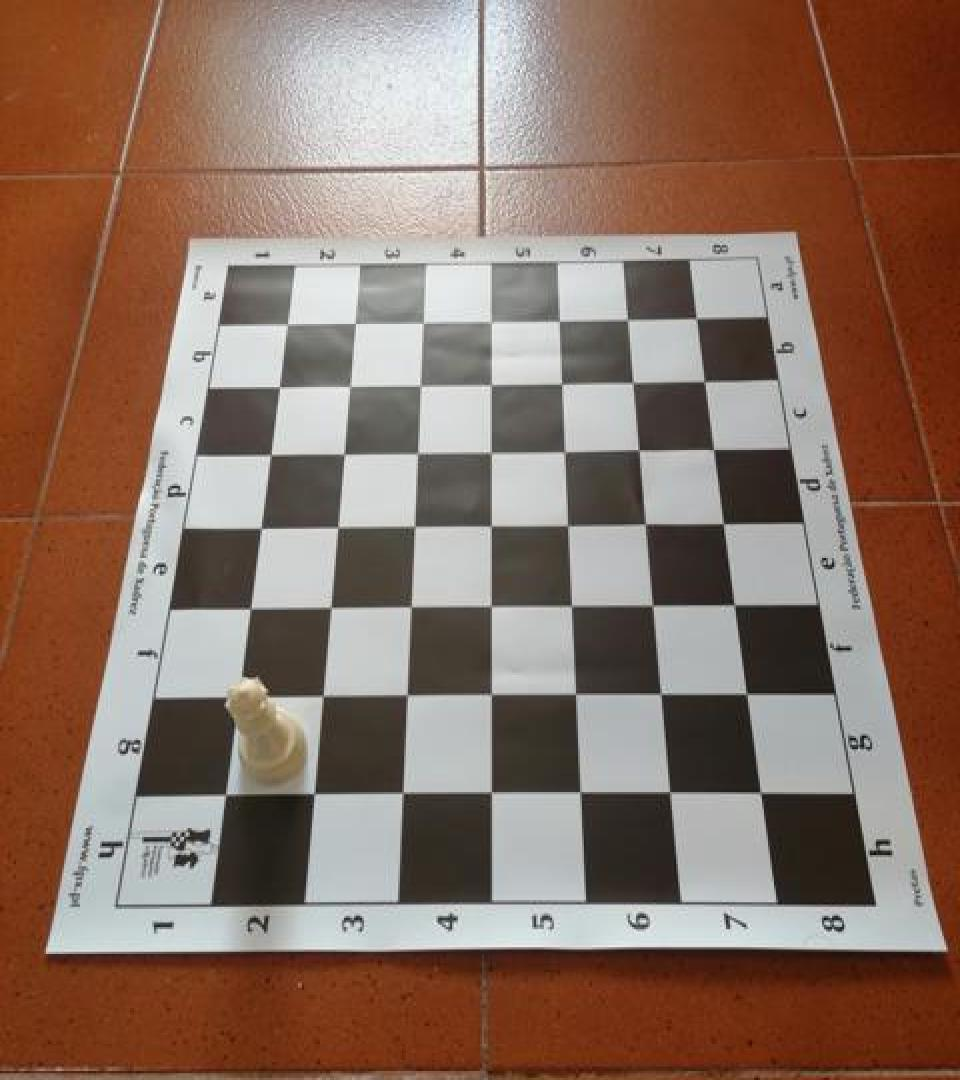xcorner: (559, 588, 591, 625), (477, 588, 509, 625), (659, 777, 691, 814), (568, 777, 600, 814), (478, 777, 510, 814), (388, 777, 420, 814), (299, 777, 331, 814), (209, 778, 241, 815), (683, 299, 715, 335), (614, 300, 646, 336), (545, 302, 577, 338), (476, 302, 508, 338), (408, 302, 440, 338), (340, 304, 372, 340), (272, 304, 304, 340), (691, 362, 723, 398), (620, 364, 652, 400), (548, 364, 580, 400), (477, 364, 509, 400), (405, 366, 437, 402), (334, 366, 366, 402), (263, 367, 295, 403), (701, 431, 733, 467), (626, 432, 658, 468), (551, 432, 583, 468), (477, 433, 509, 469), (402, 433, 434, 469), (328, 434, 360, 470), (254, 434, 286, 470), (712, 505, 744, 541), (633, 506, 665, 542), (555, 506, 587, 542), (477, 508, 509, 544), (399, 508, 431, 544), (322, 508, 354, 544), (245, 508, 277, 544), (723, 587, 755, 623), (641, 587, 673, 623), (396, 590, 428, 626), (315, 590, 347, 626), (234, 590, 266, 626), (736, 677, 768, 713), (649, 677, 681, 713), (563, 678, 595, 714), (478, 678, 510, 714), (392, 678, 424, 714), (307, 680, 339, 716), (222, 680, 254, 716), (750, 776, 782, 812)
